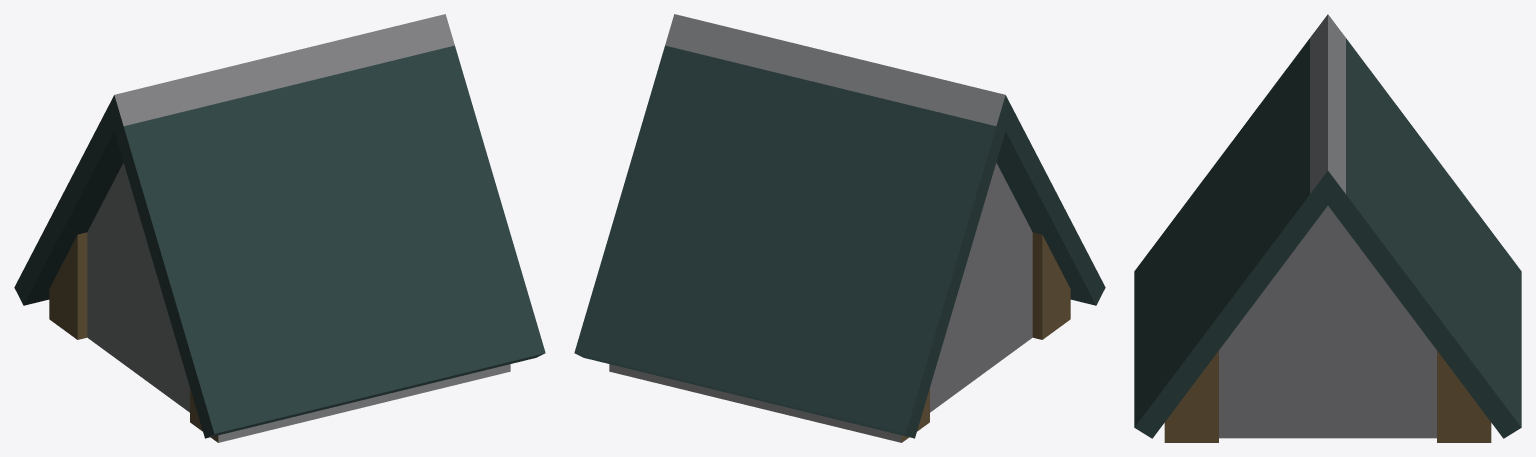
The model's file is Roof_Straight_Green_01.obj.
3 views of the same model, side by side, from view 1: azimuth 30°, elevation 25°; view 2: azimuth 150°, elevation 25°; view 3: azimuth 270°, elevation 25° (orthographic). The views are drawn at different scales.
Parts seen in each view (by area): view 1: Mesh1_Roof_Straight_Green_Model; view 2: Mesh1_Roof_Straight_Green_Model; view 3: Mesh1_Roof_Straight_Green_Model.
Part boxes in pixels (<box>): Mesh1_Roof_Straight_Green_Model: <box>14,14,545,442</box>; Mesh1_Roof_Straight_Green_Model: <box>574,14,1105,442</box>; Mesh1_Roof_Straight_Green_Model: <box>1134,14,1521,442</box>.
Bounding box in the file's own units: 3.4 × 2.86 × 3.56.
